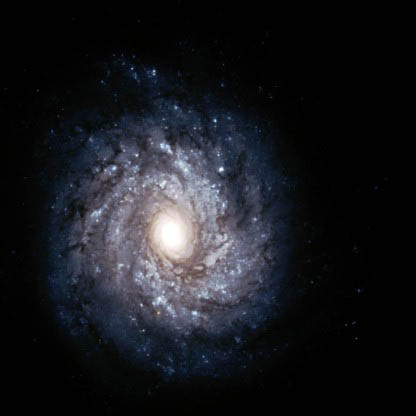NGC 3982: (44, 59, 292, 373)
